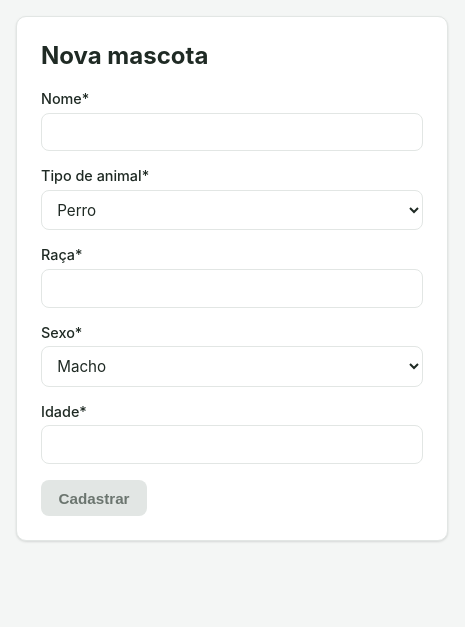
Test: NovaMascotaPage › exibe mensagem de erro quando o cadastro falha
Check: the heading "Nova mascota" is shown, box [41, 41, 208, 70]
In the field labelled "Nome*": (232, 132) [41, 113, 423, 151], type "Rex"
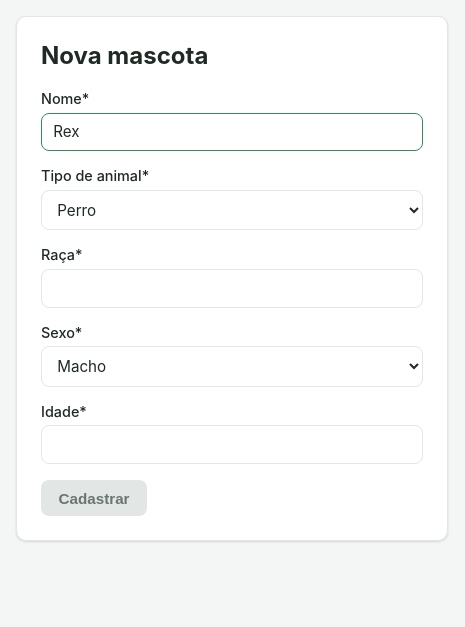
In the field labelled "Raça*": (232, 288) [41, 269, 423, 308], type "Labrador"
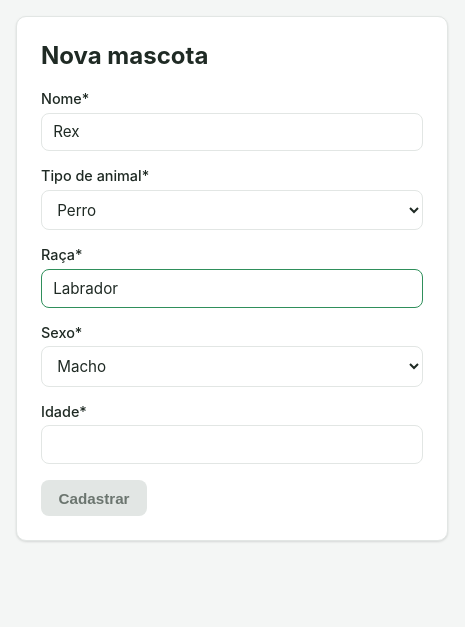
In the number field labelled "Idade*": (232, 445) [41, 425, 423, 464], type "3"
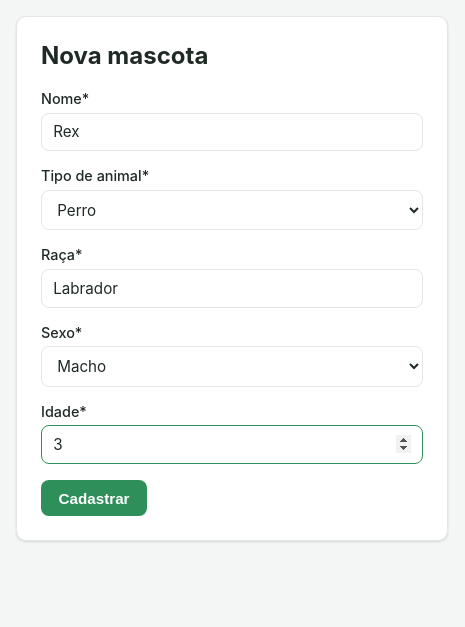
Click the button "Cadastrar": click(94, 498) [41, 480, 147, 516]
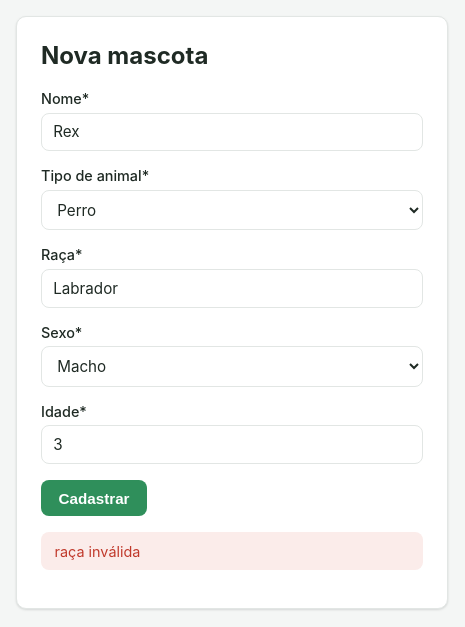
Check: the text "raça inválida" is shown, box [41, 532, 423, 570]
